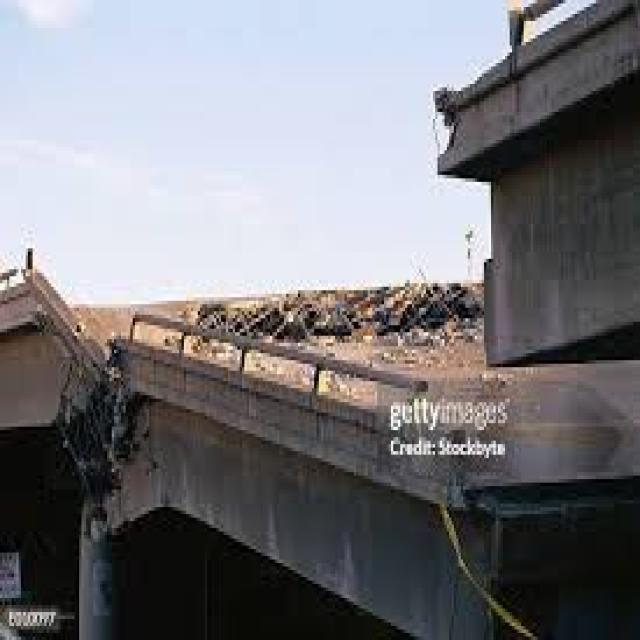bridge collapse: (18, 3, 640, 639)
